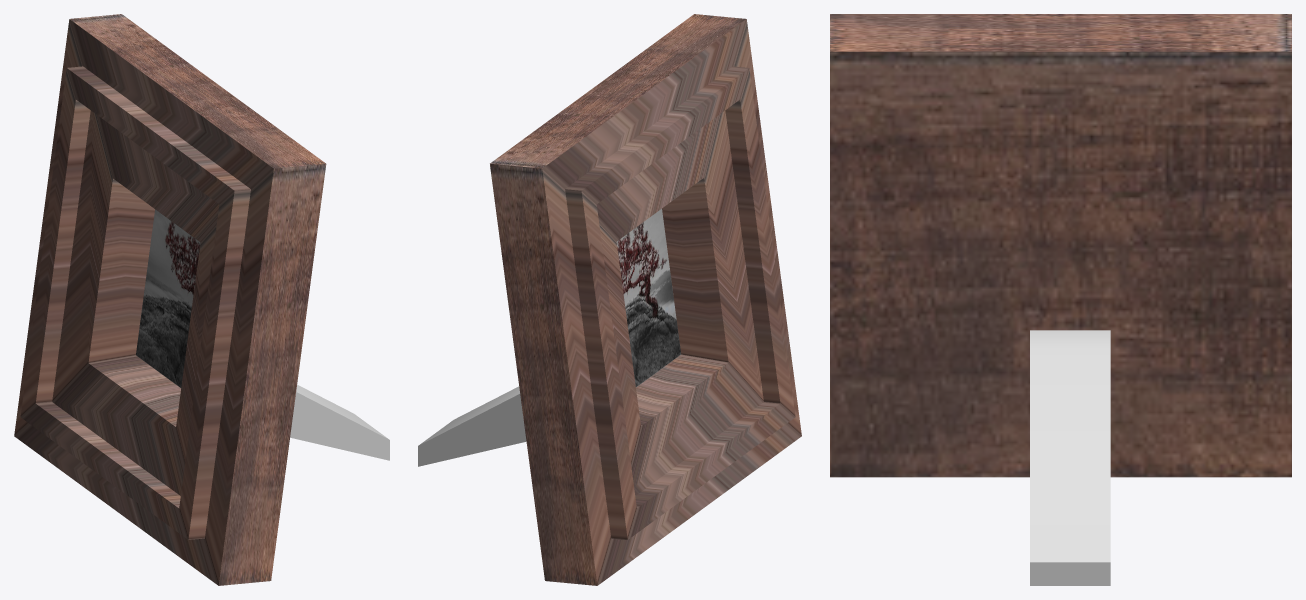
The model's file is big frame.FBX.
3 renders of one model, left to right at view 1: azimuth 30°, elevation 25°; view 2: azimuth 150°, elevation 25°; view 3: azimuth 270°, elevation 25°, orthographic. The views are drawn at different scales.
Visible parts, largest first — view 1: Box001, Object001, Box002; view 2: Box001, Object001, Box002; view 3: Box001, Box002.
Part boxes in pixels (x1,y1,x2,y2): Box001: (14,14,326,585); Object001: (136,209,200,387); Box002: (290,384,389,460); Box001: (490,14,801,585); Object001: (616,209,681,387); Box002: (418,386,526,466); Box001: (830,14,1291,477); Box002: (1030,330,1110,585).
Size of the model in its own units: 8.55 by 12.38 by 11.15.
2 materials, 2 textured.
